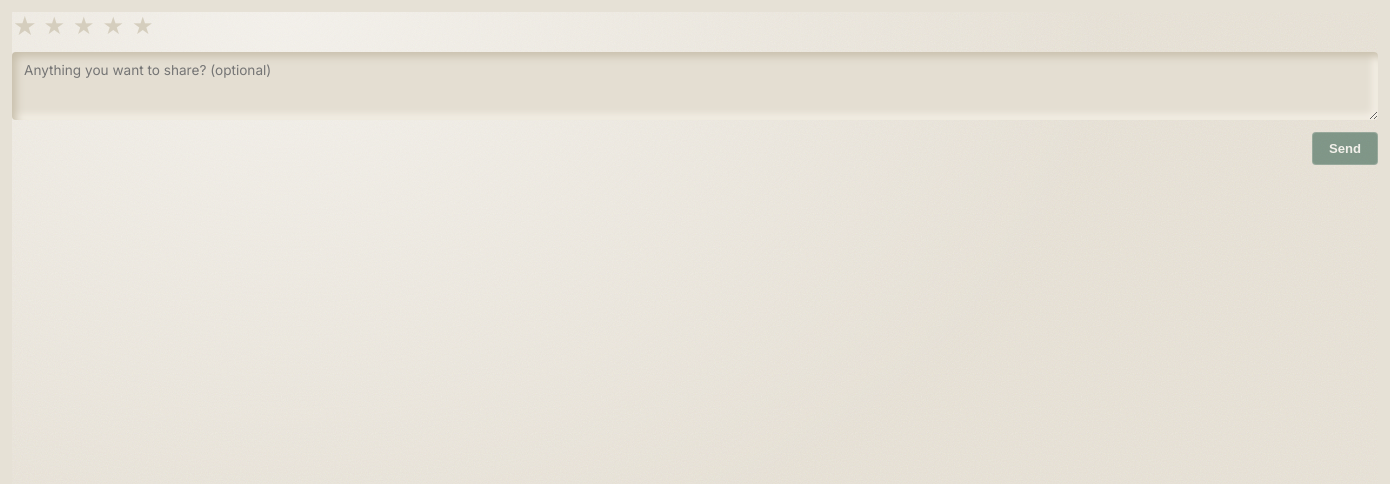
send is disabled until there is a rating or a note
expect the button "Send" is disabled: met, box top-left (1312, 132), bottom-right (1378, 165)
Type "nice" into the text box. click: (695, 86)
box: top-left (12, 52), bottom-right (1378, 120)
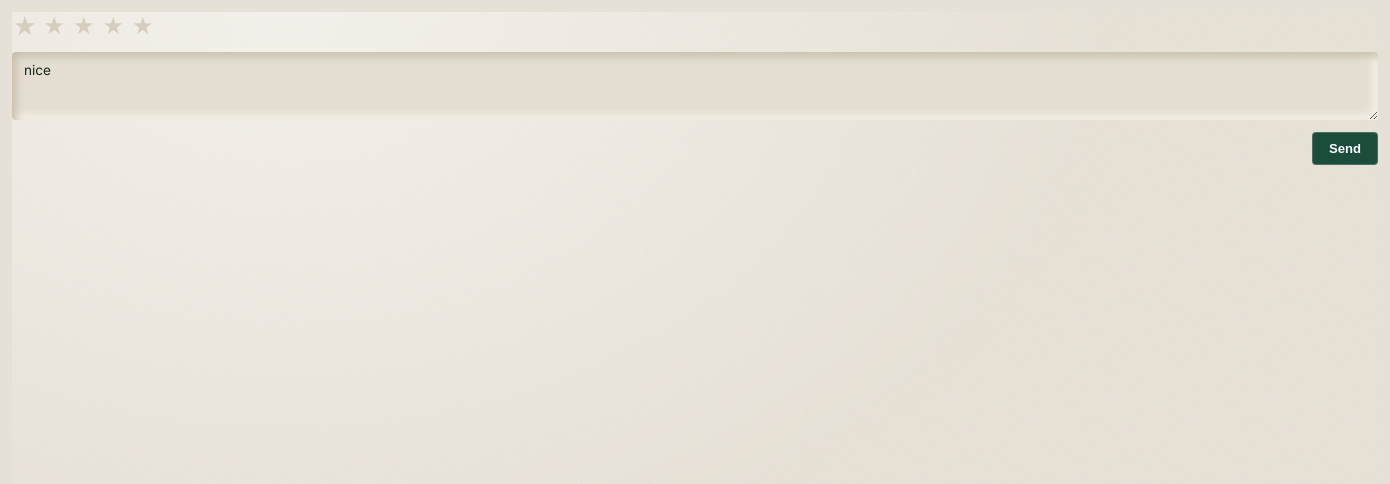
expect the button "Send" is enabled: met, box top-left (1312, 132), bottom-right (1378, 165)
